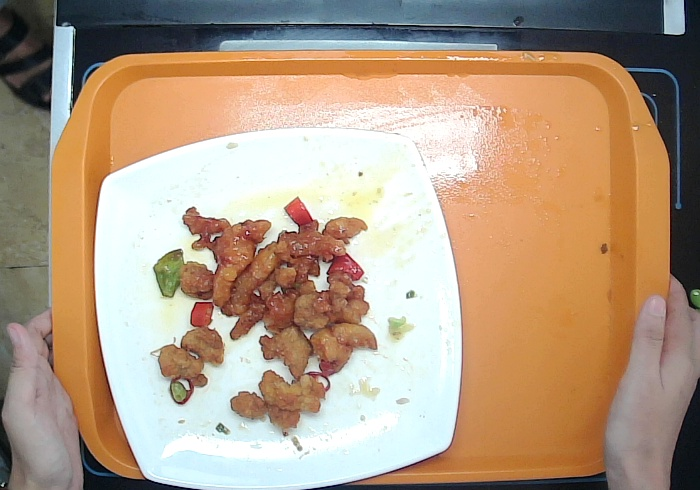ZNLD-Bai_Fang_Pan: (81, 112, 476, 490)
